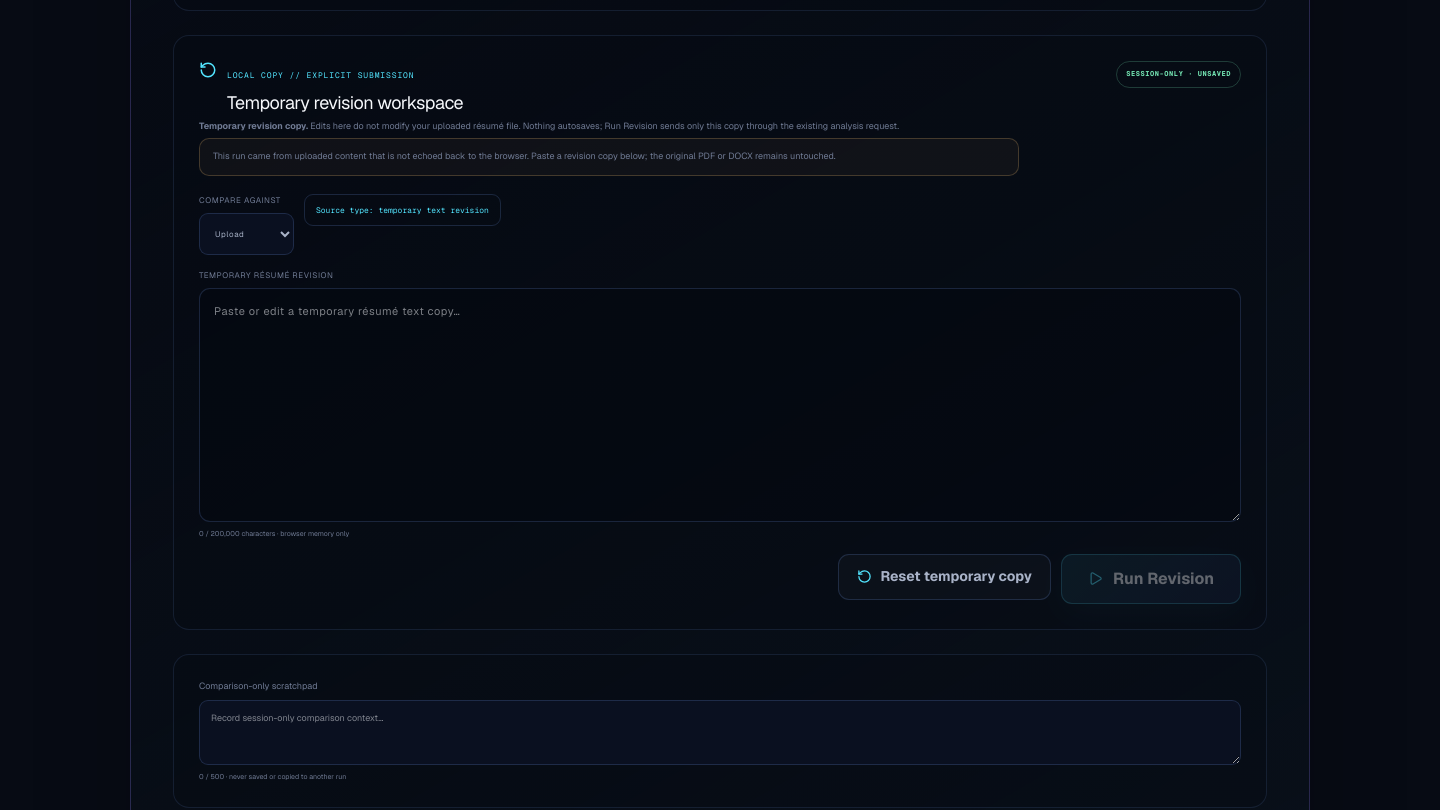
ResumeLab › keeps upload-derived source text unavailable and reports a rejected revision run
(page scrolled)
Check: the text "uploaded content that is not echoed back to the browser" is shown, box [213,150,836,162]
Type "Python SQL" into the text box labelled "Temporary résumé revision" at x=720, y=405, box [199,288,1241,522]
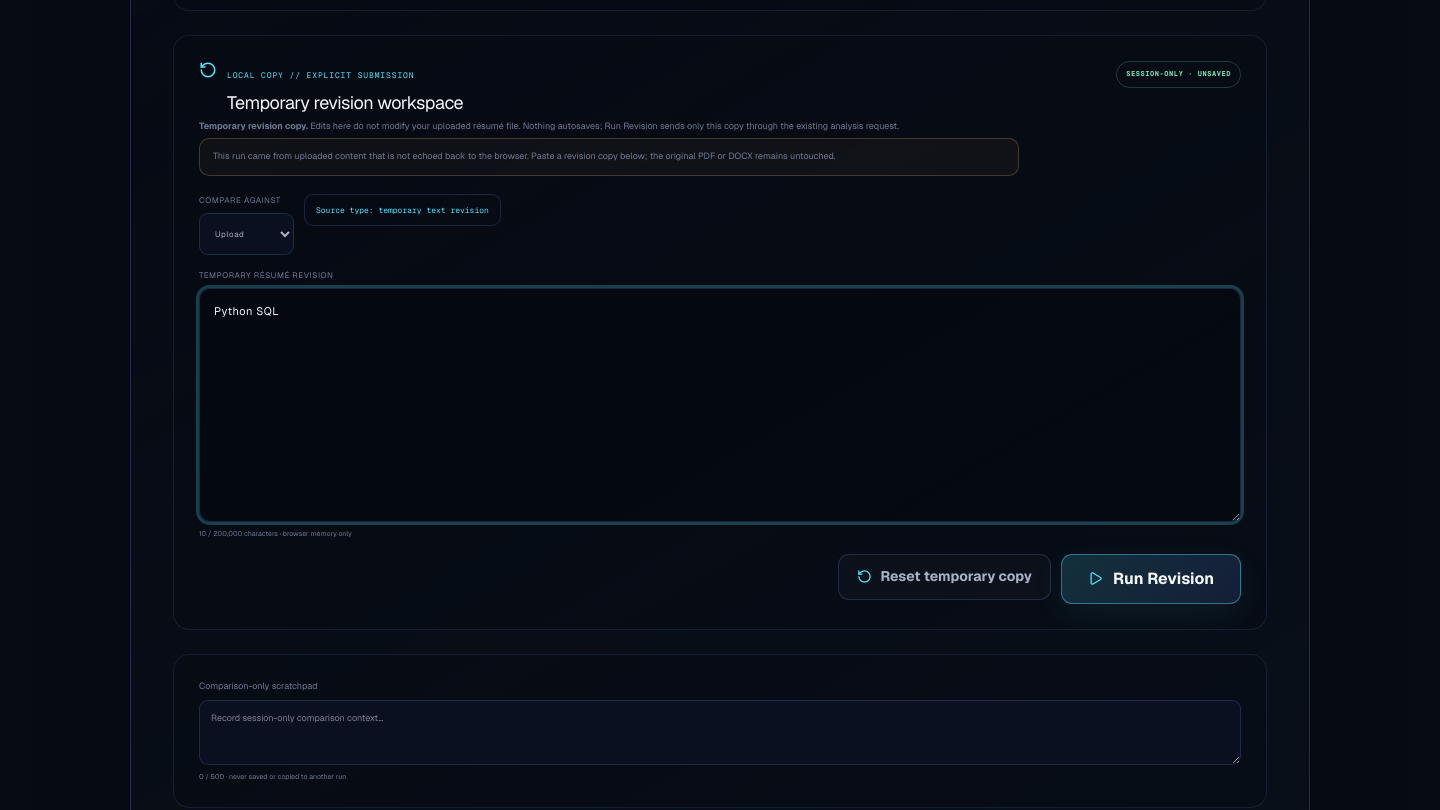
Click the button "Run Revision" at x=1151, y=579, box [1061,554,1241,604]
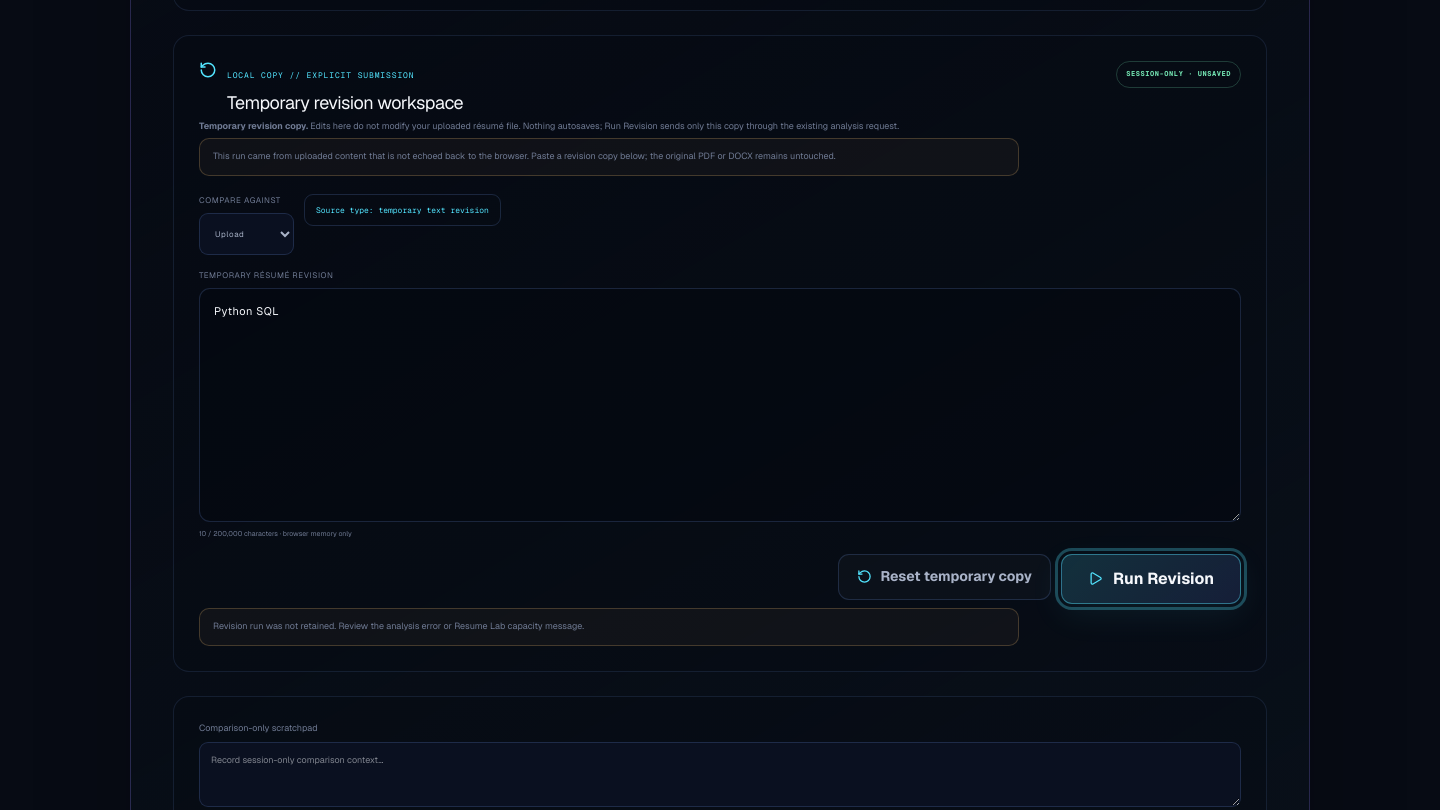
Check: the text "Revision run was not retained" is shown, box [213,620,584,632]
